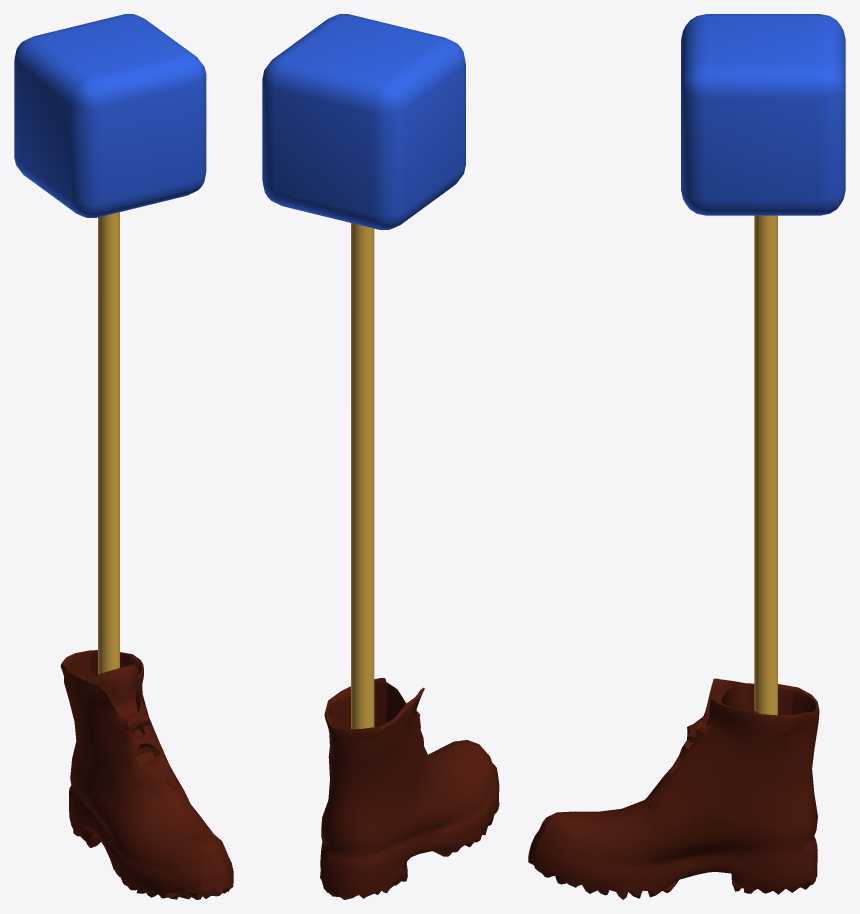
Rendered from botengel.fbx.
The picture shows the model from 3 angles, left to right: view 1: azimuth 30°, elevation 25°; view 2: azimuth 150°, elevation 25°; view 3: azimuth 270°, elevation 25°; orthographic projection. The views are drawn at different scales.
Visible parts, largest first — view 1: Cube.001, bot, Plane; view 2: Cube.001, bot, Plane; view 3: bot, Cube.001, Plane.
Part boxes in pixels (bbox=[...]): Cube.001: bbox=[14, 14, 206, 217]; bot: bbox=[60, 650, 233, 899]; Plane: bbox=[98, 212, 119, 674]; Cube.001: bbox=[262, 14, 465, 229]; bot: bbox=[320, 678, 499, 899]; Plane: bbox=[351, 223, 374, 728]; bot: bbox=[528, 678, 819, 899]; Cube.001: bbox=[681, 14, 845, 215]; Plane: bbox=[754, 215, 777, 715].
Bounding box in the file's own units: 13.96 × 78.9 × 26.9.
